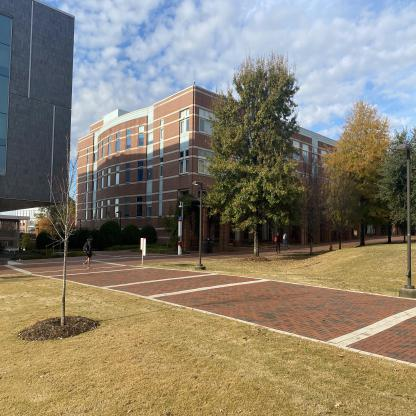EB-1: (78, 90, 397, 244)
